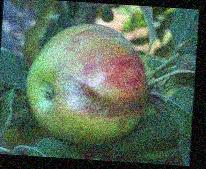rotten apple: (25, 23, 154, 145)
